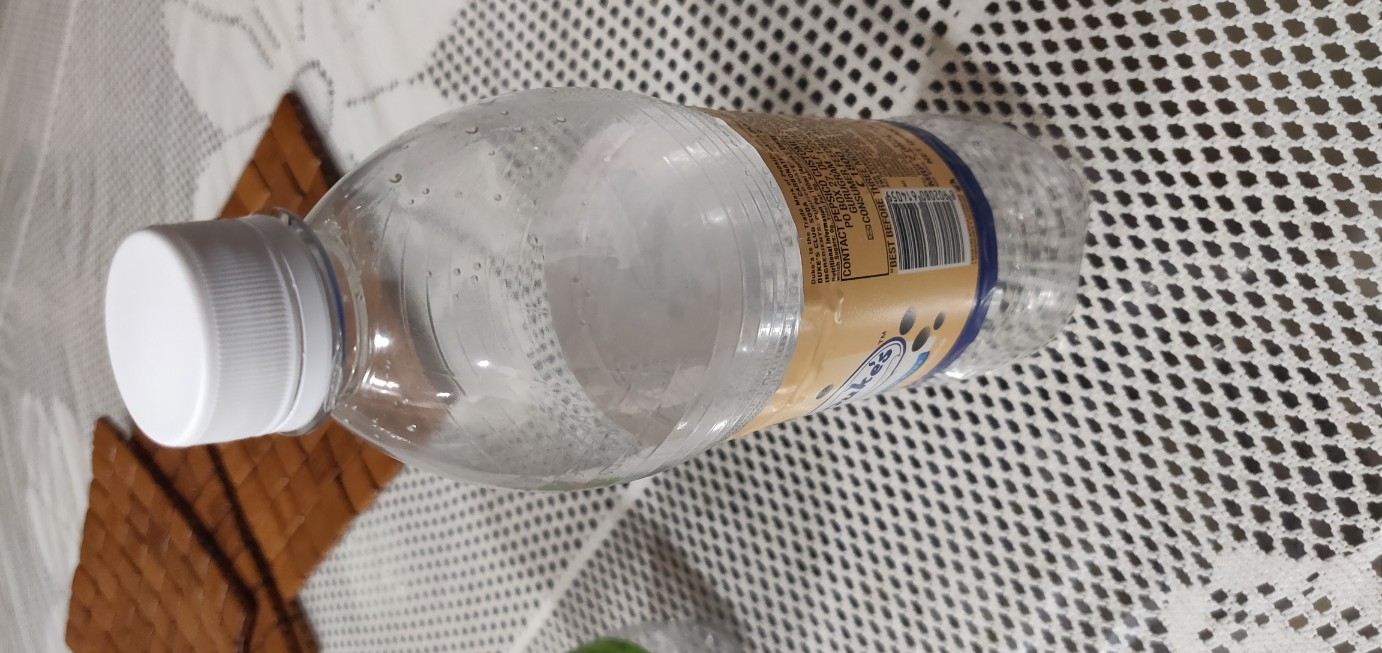Electronics: (81, 70, 1126, 505)
